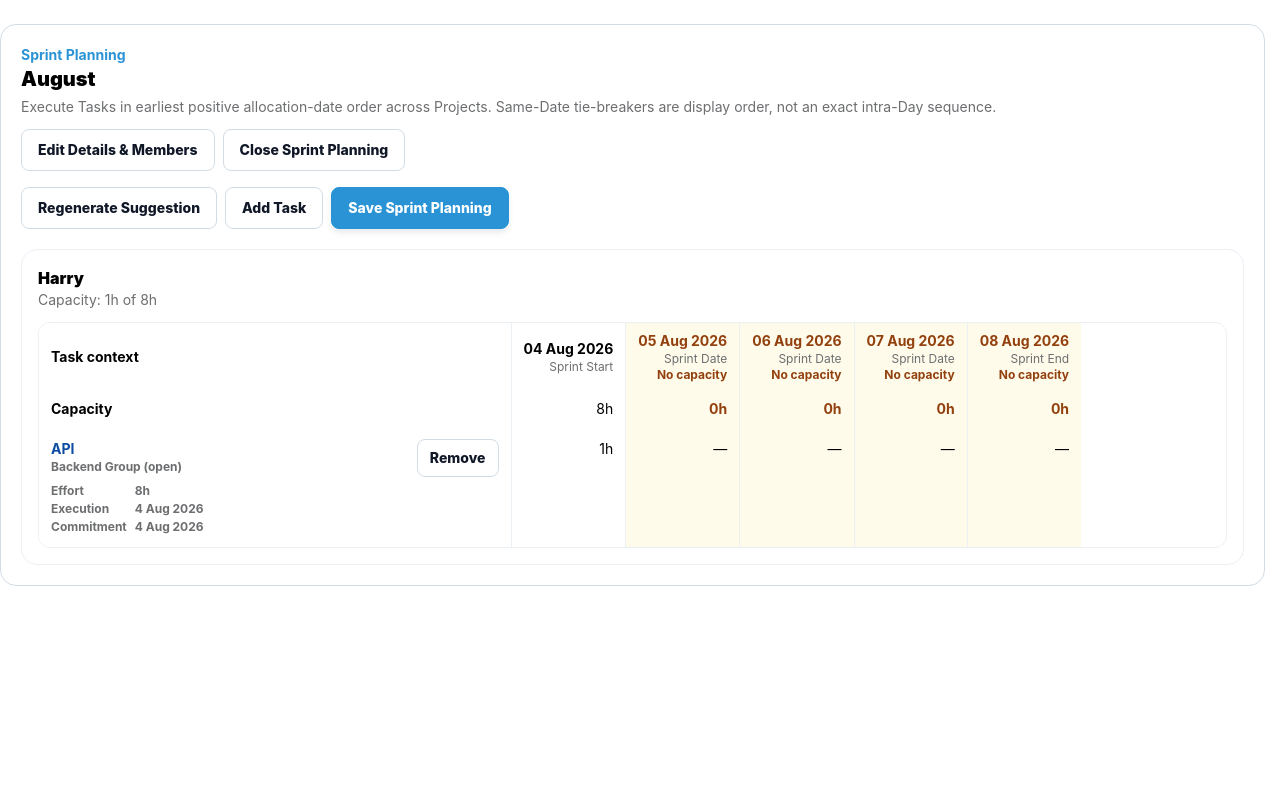
Test case: SprintTaskReview › regenerates Sprint Planning usage and live Parent Name after saving through the shared Home Task editor_SPD11_SPD12_SPD17_AC47And80
Expected: the element "Harry" shows "Capacity: 1h of 8h", [21,249,1244,565]
Click the button "API". click: (63,449)
box: [51,439,74,459]
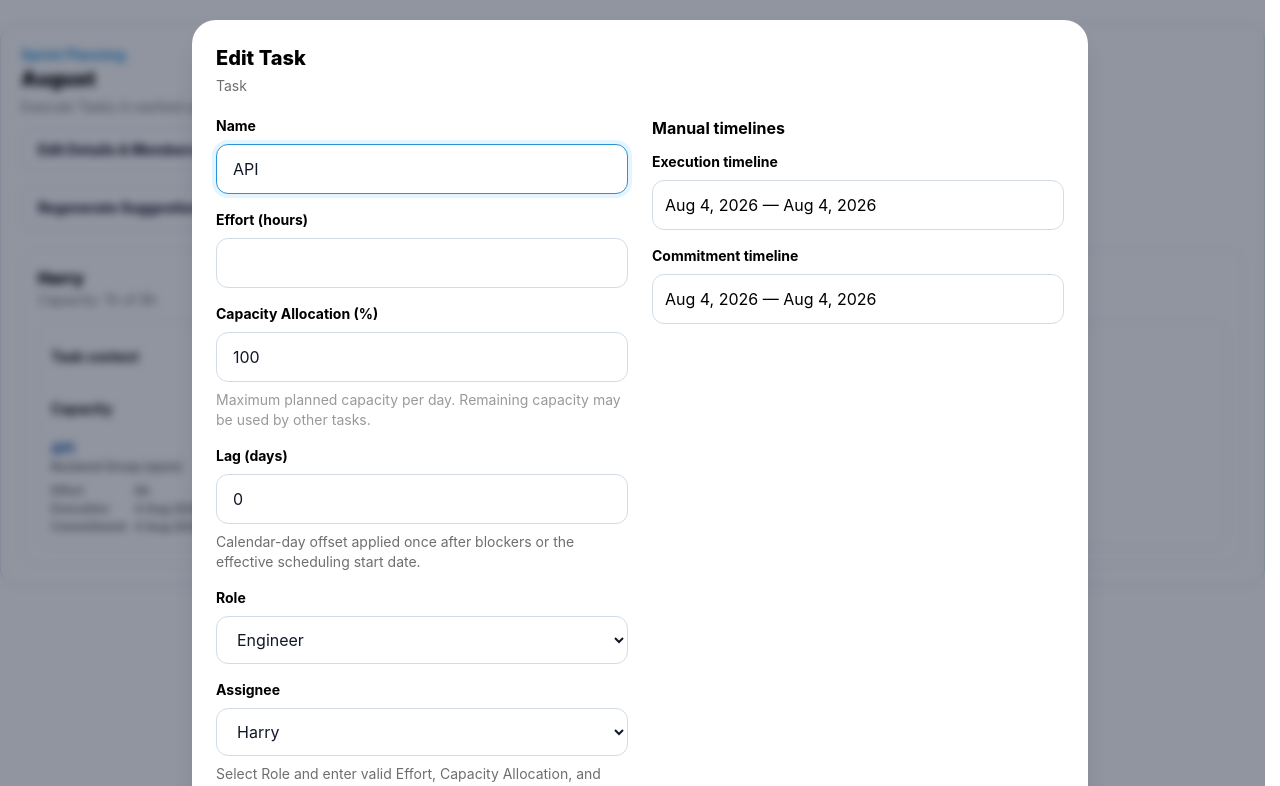
Replace the text in the field labelled "Name" with "Updated API". click: (422,169)
box: [216,144,628,194]
(page scrolled)
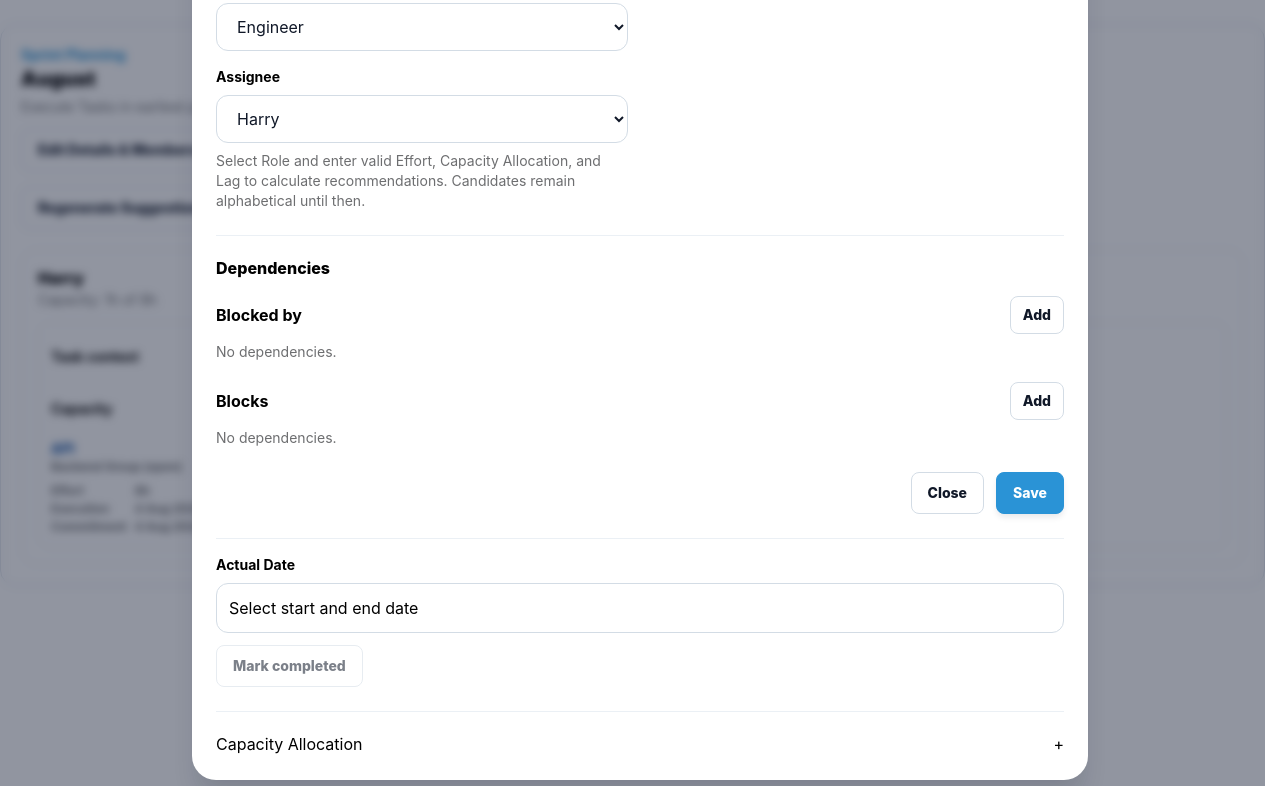
Click the button "Save". click: (1030,493)
box: [996,472,1064,514]
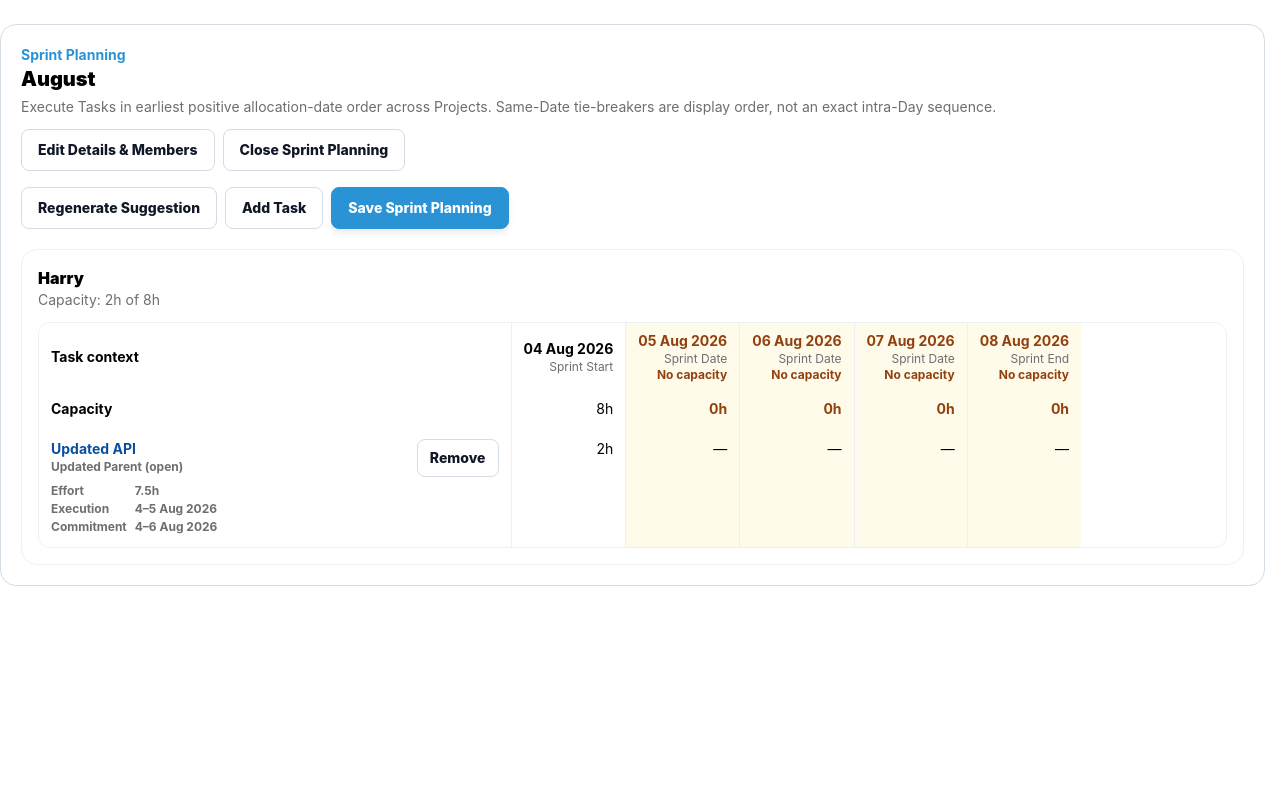
Now the button "Updated API" is shown, box [51,439,136,459]
Now the row that starts with "Updated API" shows "Updated Parent (open)", box [39,427,1081,547]
Now the text "Backend Group (open)" is gone
